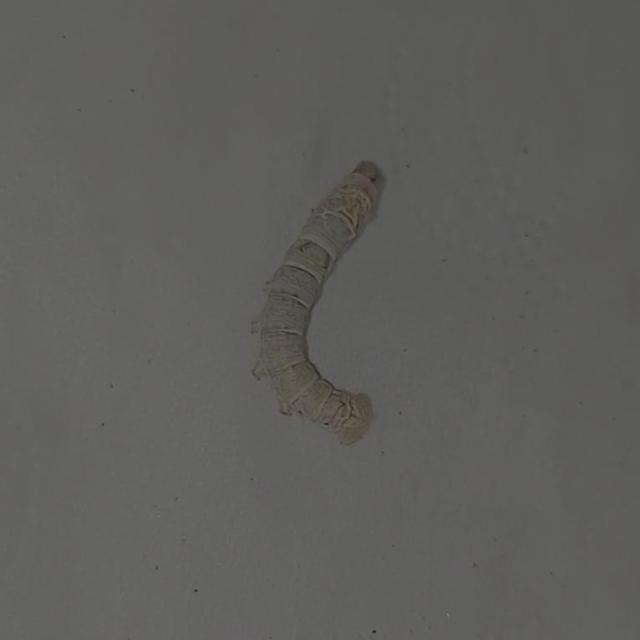Healthy: (230, 127, 406, 457)
